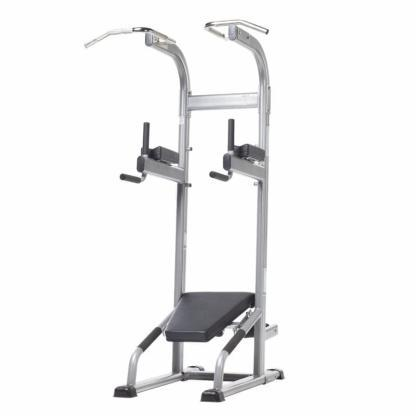chinning dipping: (84, 18, 286, 402)
